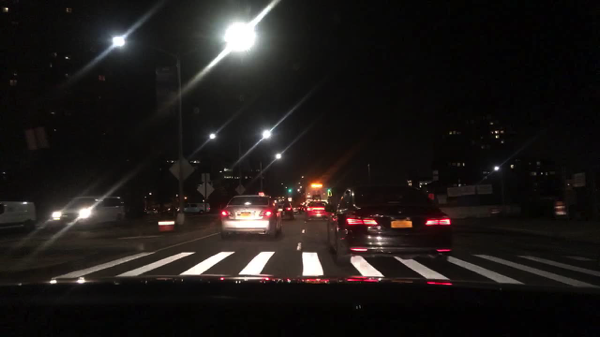car: (327, 185, 453, 264), (47, 196, 128, 230), (220, 196, 281, 239), (0, 202, 37, 231), (178, 203, 211, 214), (275, 200, 294, 218), (307, 203, 329, 218), (163, 207, 178, 214), (145, 208, 158, 215), (293, 206, 301, 214), (321, 201, 328, 207), (300, 206, 305, 213)
traffic light: (288, 190, 292, 194)
traffic sign: (169, 156, 195, 182), (197, 184, 215, 198), (201, 173, 210, 183), (235, 185, 245, 194), (257, 192, 265, 196), (287, 197, 292, 203)
